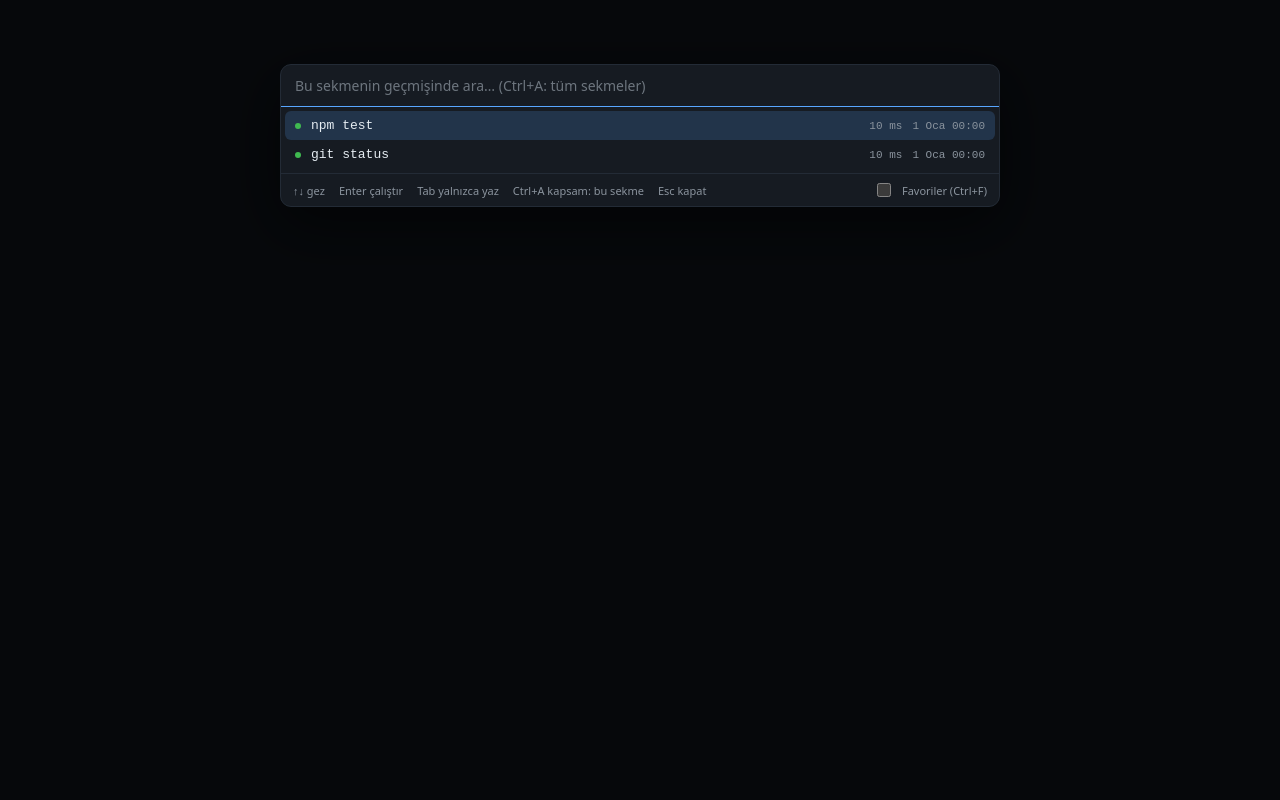
Test: Ctrl+R geçmiş penceresi › tik favorileri listenin başına getiriyor
Click the checkbox labelled "Favoriler (Ctrl+F)". click: coordinates (884, 190)
box: [877,183,891,197]
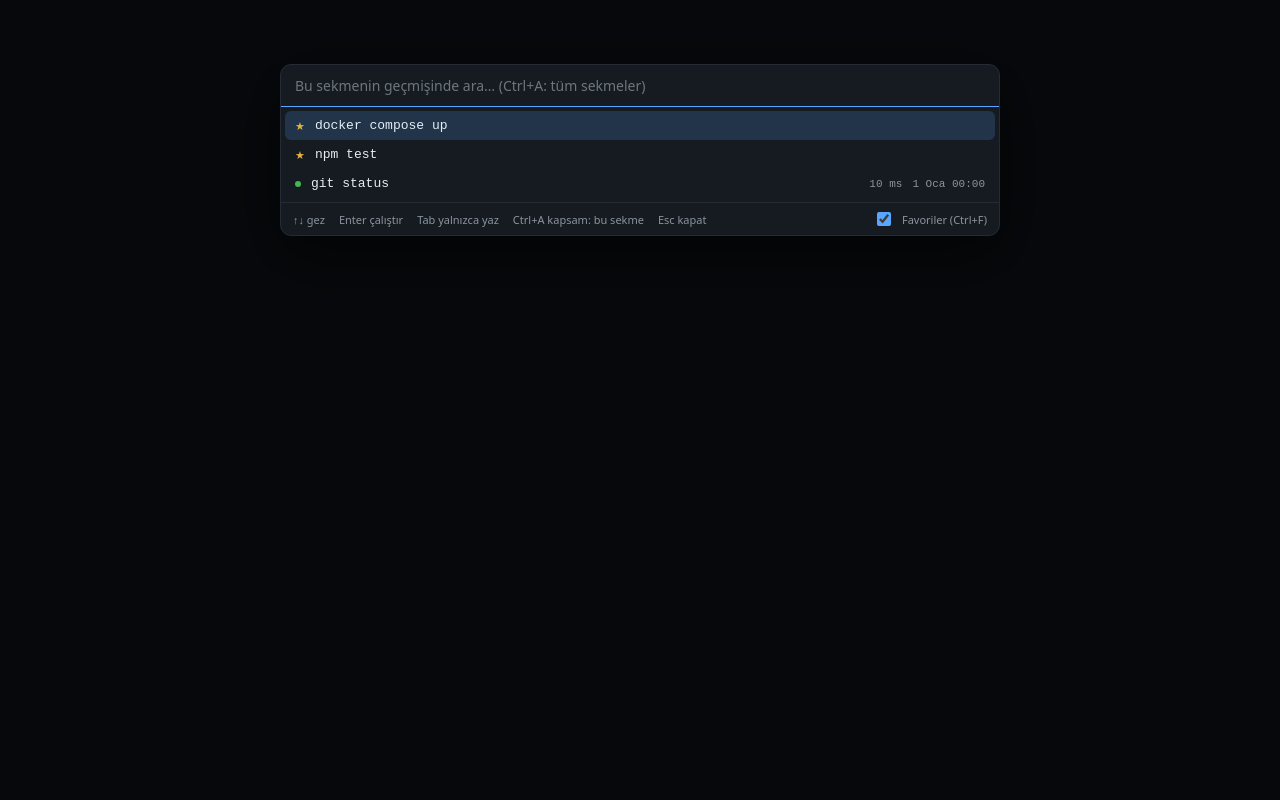
Expected: the number of elements with class "star" is 2, [295,118,305,133]; [295,147,305,162]
